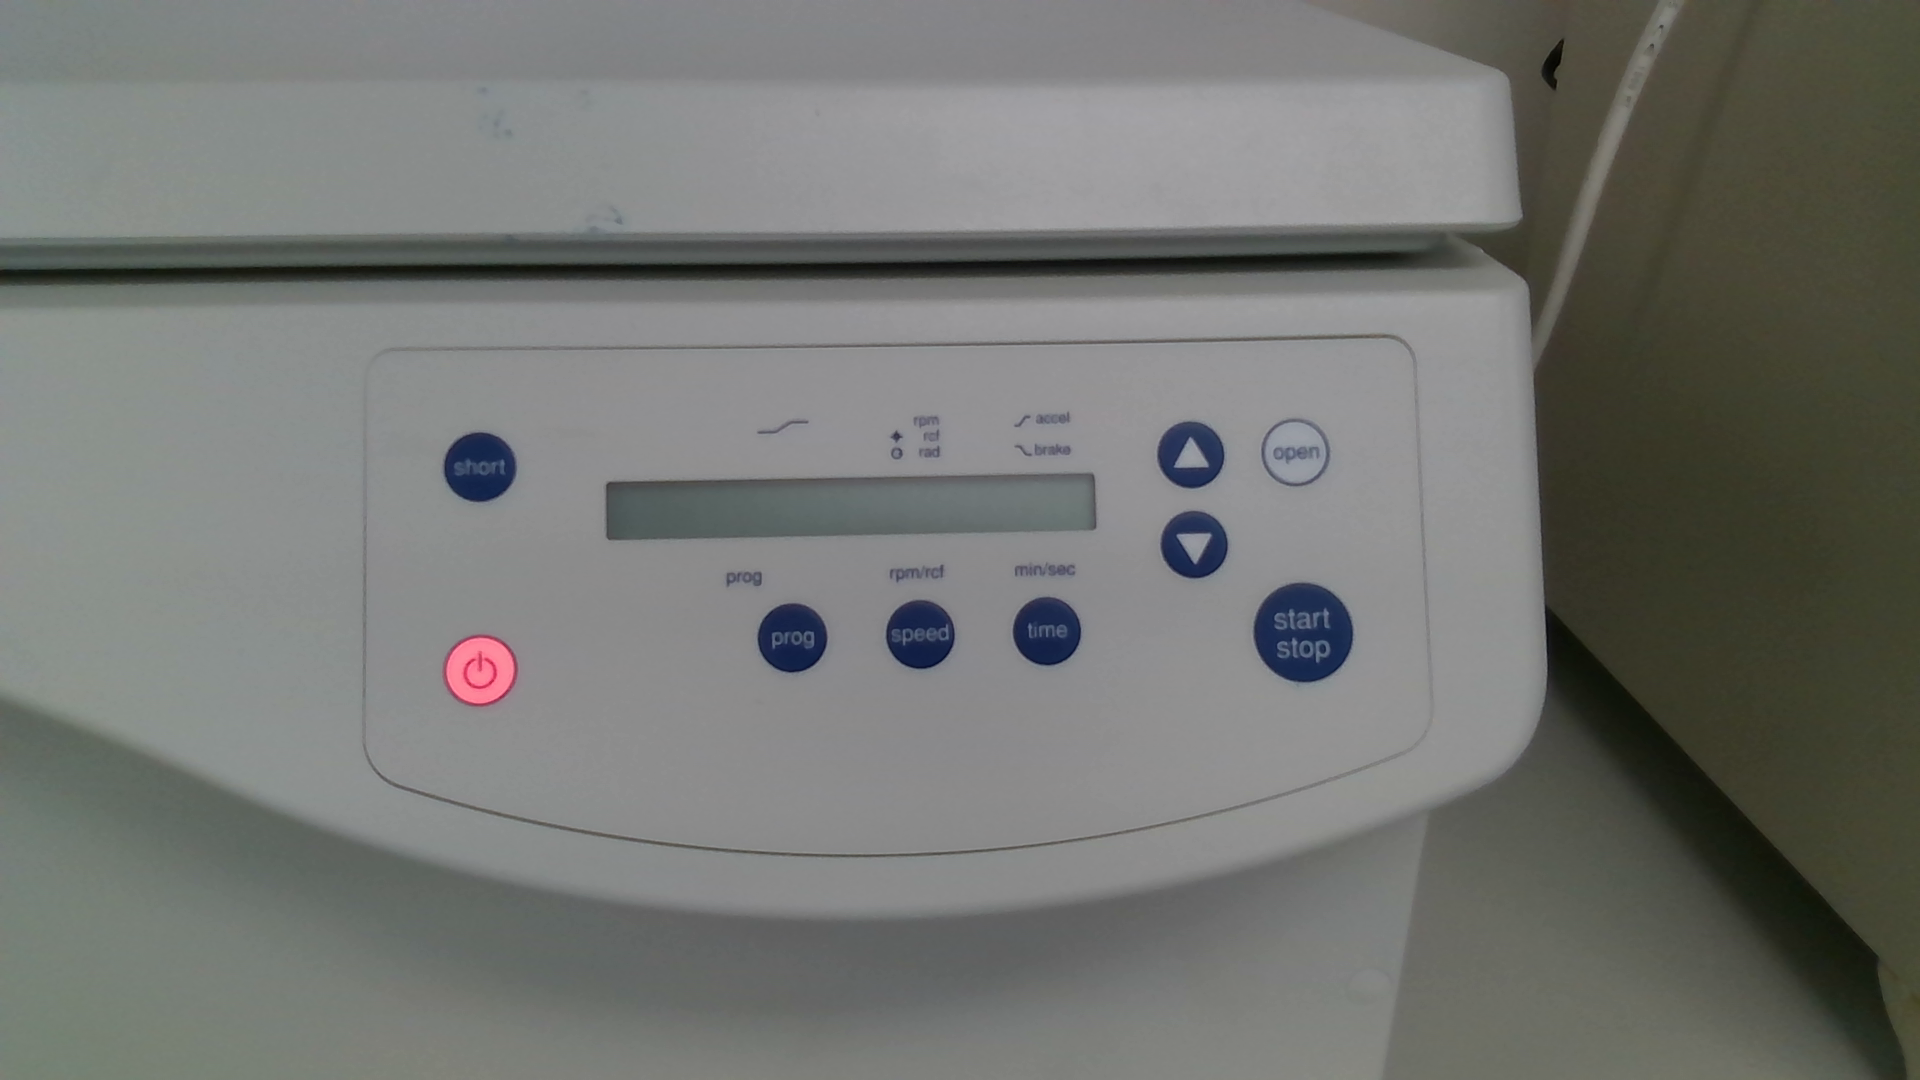open_off: (1261, 418, 1331, 487)
power_off: (443, 634, 518, 707)
